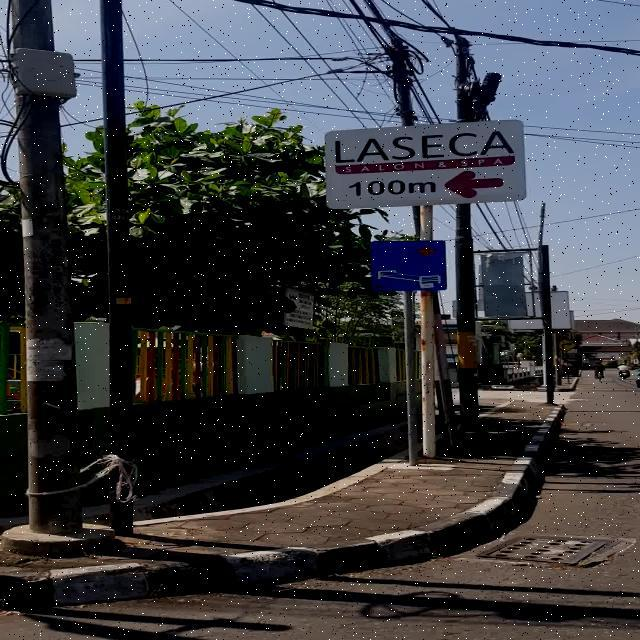Rumah Sakit: (370, 240, 447, 292)
